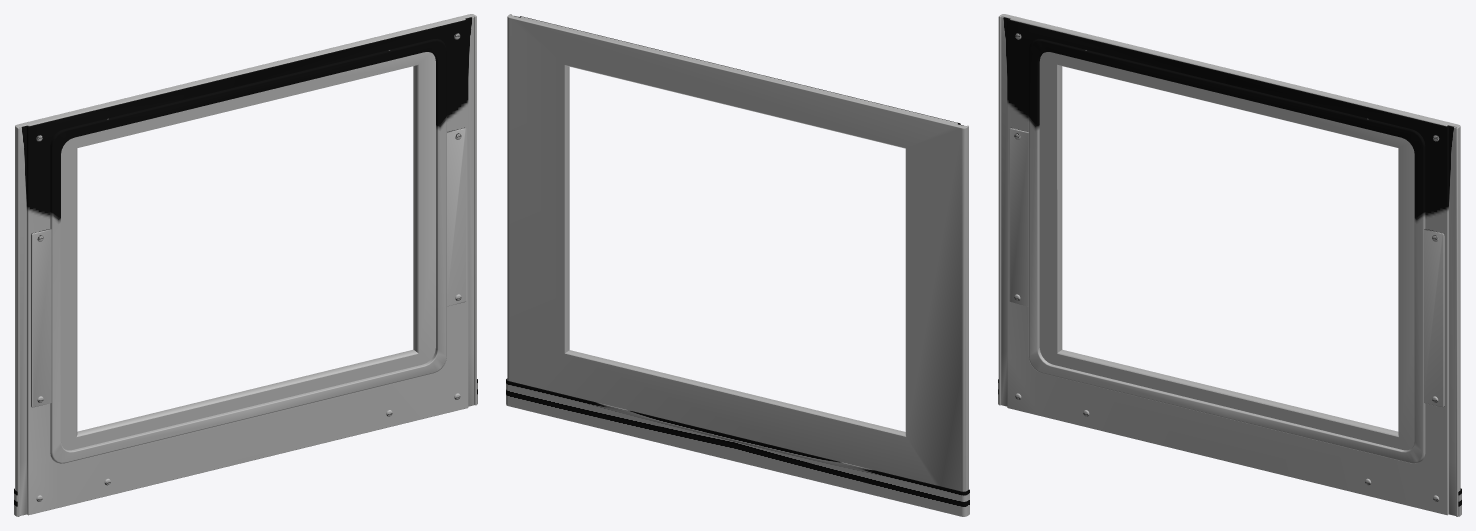
Rendered from Oven_Door.obj.
3 renders of one model, left to right at view 1: azimuth 30°, elevation 25°; view 2: azimuth 150°, elevation 25°; view 3: azimuth 330°, elevation 25°, orthographic.
Size of the model in its own units: 0.7653 by 0.6166 by 0.0214.
